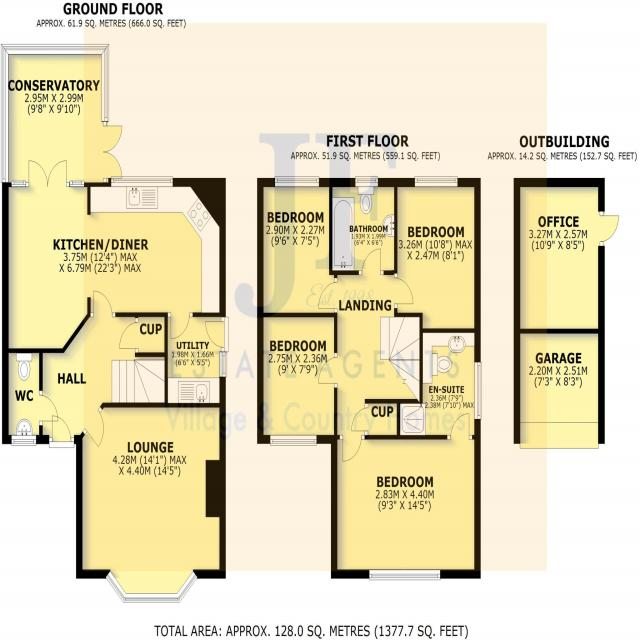DOOR: (83, 407, 105, 449), (597, 213, 622, 246), (50, 412, 73, 446), (117, 319, 141, 351), (316, 354, 339, 387), (393, 276, 417, 307), (91, 288, 114, 320), (316, 279, 339, 311), (38, 393, 61, 424), (203, 319, 226, 350), (169, 310, 192, 341), (449, 410, 471, 442), (341, 433, 363, 464), (360, 247, 382, 276), (349, 405, 369, 433)
DOUBLE DOOR: (25, 156, 70, 187)
ROOM: (0, 157, 227, 355), (330, 412, 482, 581), (393, 174, 482, 333), (255, 176, 339, 318), (255, 312, 338, 446)
WINDOW: (0, 41, 10, 184), (0, 44, 109, 57), (110, 173, 177, 191), (368, 567, 442, 582), (104, 568, 127, 605), (100, 42, 110, 123), (176, 569, 199, 604), (274, 174, 321, 189), (123, 591, 181, 603), (413, 174, 459, 189), (269, 433, 318, 447), (473, 360, 483, 421), (354, 174, 380, 189), (10, 434, 37, 448), (218, 350, 228, 379), (10, 180, 27, 189), (69, 179, 85, 188)
